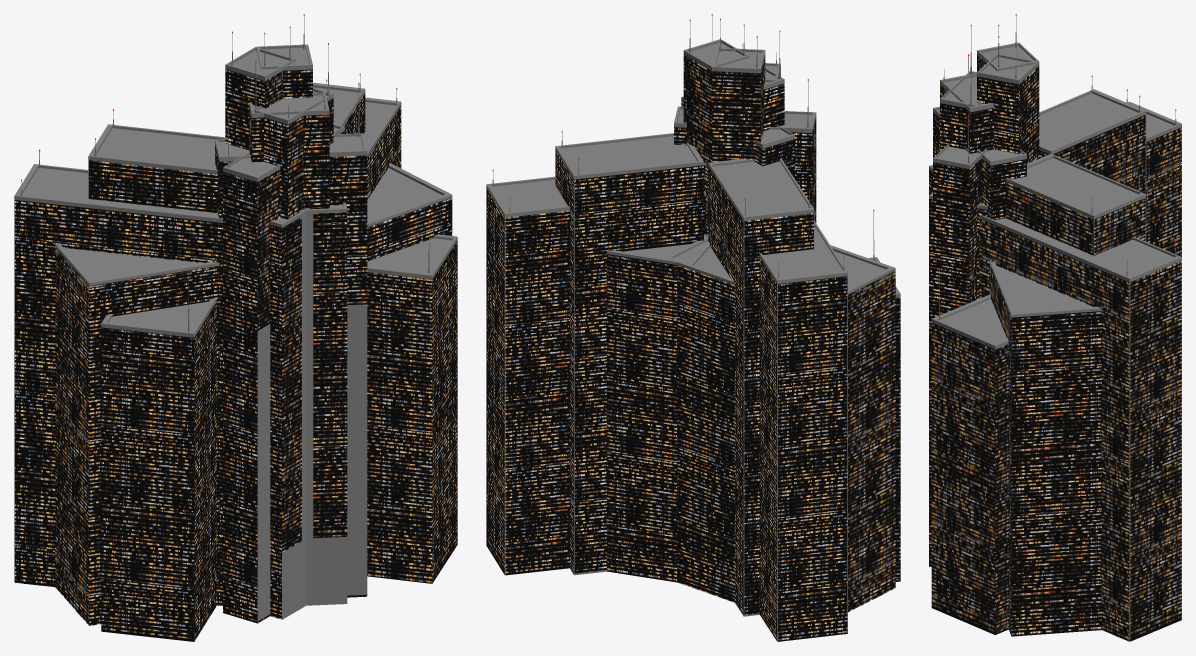
The model's file is massive-complex2.glb.
The picture shows the model from 3 angles, left to right: view 1: azimuth 30°, elevation 25°; view 2: azimuth 150°, elevation 25°; view 3: azimuth 270°, elevation 25°; orthographic projection. The views are drawn at different scales.
Parts seen in each view (by area): view 1: Corp.001; view 2: Corp.001; view 3: Corp.001.
Part boxes in pixels (left/top/right/bottom): Corp.001: left=14, top=14, right=457, bottom=641; Corp.001: left=486, top=14, right=900, bottom=641; Corp.001: left=929, top=14, right=1181, bottom=641.
Size of the model in its own units: 339 by 466 by 204.
3 materials, 1 textured.
